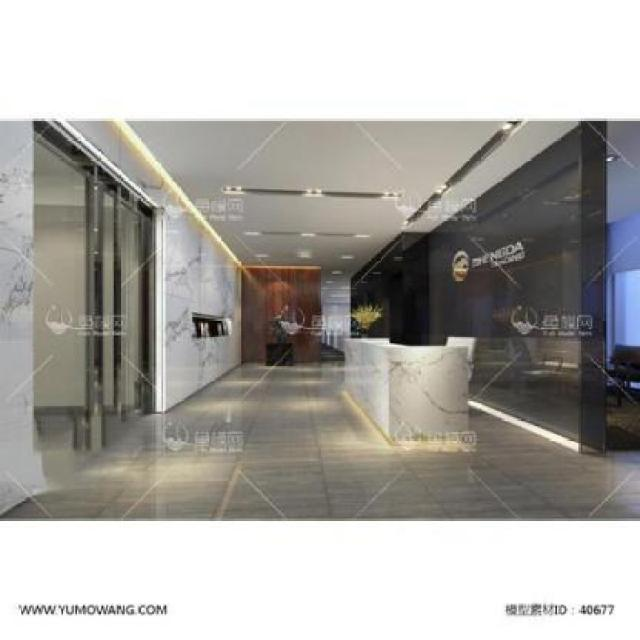frontdesk: (332, 323, 484, 452)
